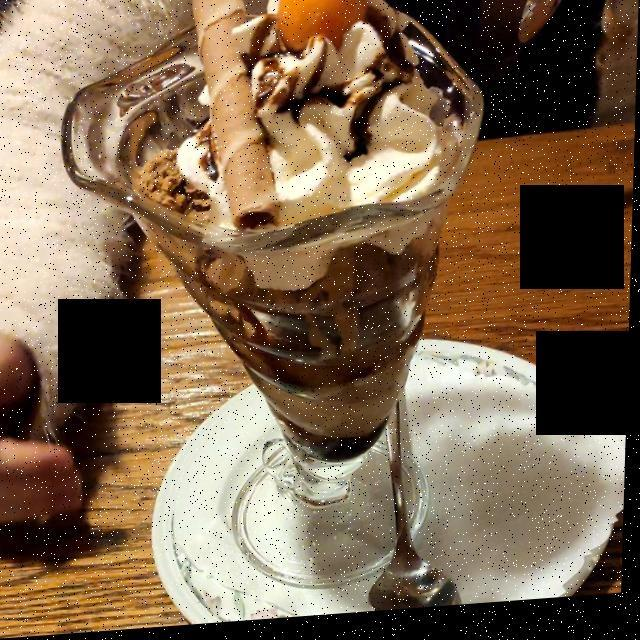biscuits: (191, 0, 273, 220)
cream: (178, 35, 456, 285)
ice-cream: (127, 142, 430, 445)
